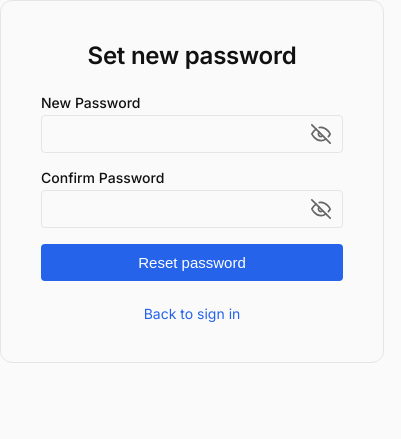
Test: ResetPasswordForm › validates password length before submit
The image size is (401, 439).
Type "short" into the password field labelled "New Password" at (192,134), box [41,115,343,153]
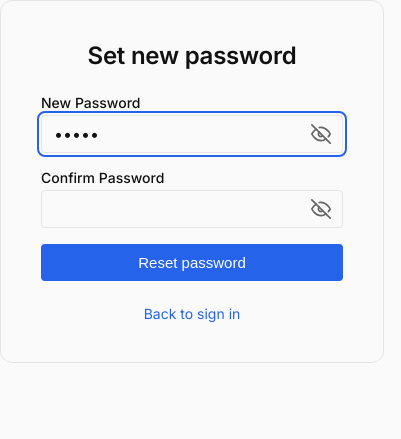
Type "short" into the password field labelled "Confirm Password" at (192,209), box [41,190,343,228]
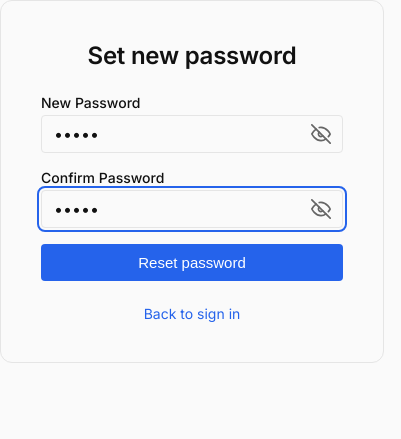
Click the button "Reset password" at (192,262), box [41,244,343,281]
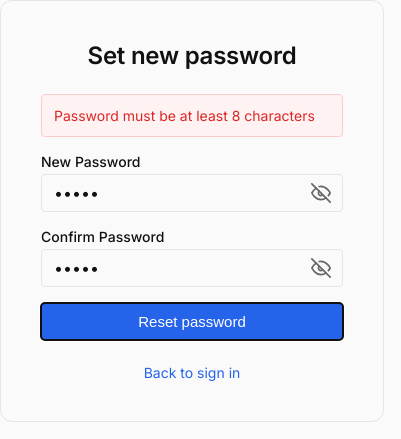
Now the text "Password must be at least 8 characters" is shown, box [41,94,343,137]
